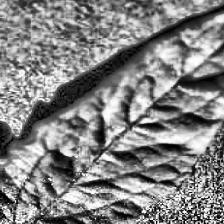Anthracnose Fruit Rot: (92, 89, 154, 133), (6, 139, 50, 178), (106, 176, 169, 200), (154, 126, 211, 152), (178, 47, 210, 86)
